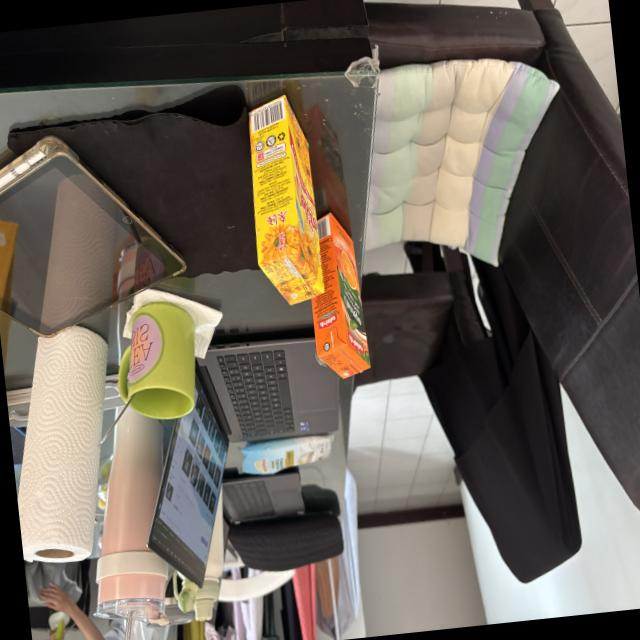drink_carton: (236, 84, 335, 316), (294, 198, 378, 394)
